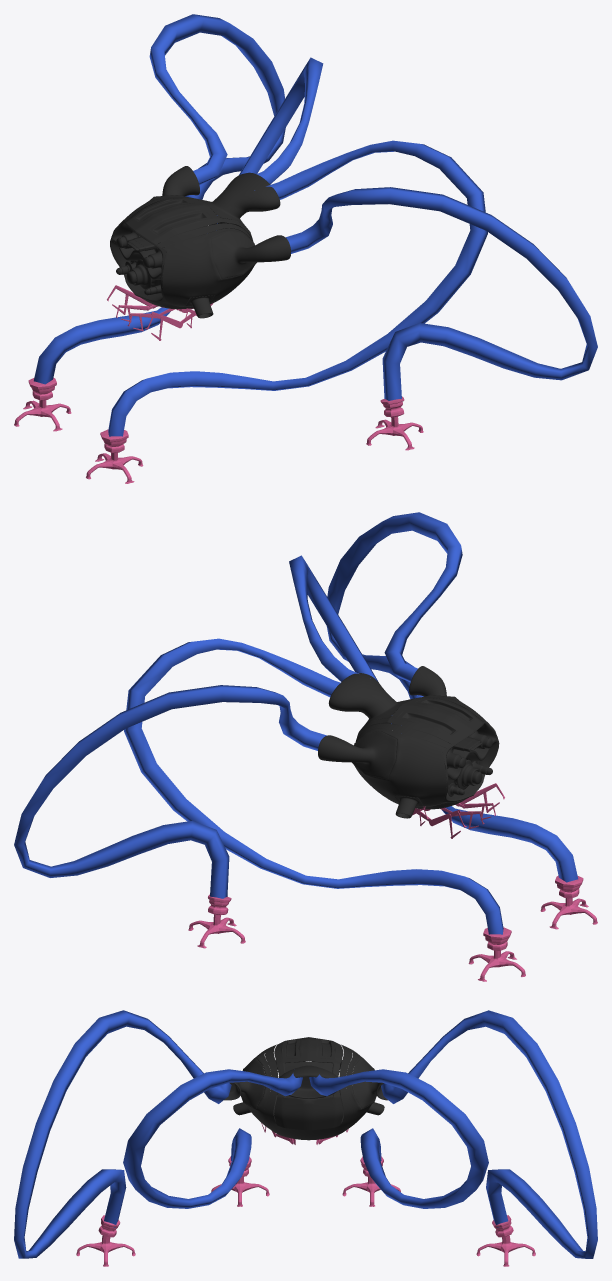
File: Vault_01_Sentinel.fbx
3 renders of one model, top to bottom at view 1: azimuth 30°, elevation 25°; view 2: azimuth 150°, elevation 25°; view 3: azimuth 270°, elevation 25°, orthographic. The views are drawn at different scales.
Visible parts, largest first — view 1: Sentinel_Tentacles_LOD0, Sentinel_Body_LOD0, Sentinel_Claw_LOD0; view 2: Sentinel_Tentacles_LOD0, Sentinel_Body_LOD0, Sentinel_Claw_LOD0; view 3: Sentinel_Tentacles_LOD0, Sentinel_Body_LOD0, Sentinel_Claw_LOD0.
Part boxes in pixels (x1=…): Sentinel_Tentacles_LOD0: x1=33, y1=14, x2=597, y2=436; Sentinel_Body_LOD0: x1=110, y1=166, x2=290, y2=318; Sentinel_Claw_LOD0: x1=14, y1=285, x2=423, y2=483; Sentinel_Tentacles_LOD0: x1=14, y1=512, x2=578, y2=934; Sentinel_Body_LOD0: x1=318, y1=666, x2=499, y2=818; Sentinel_Claw_LOD0: x1=188, y1=783, x2=597, y2=981; Sentinel_Tentacles_LOD0: x1=14, y1=1010, x2=597, y2=1258; Sentinel_Body_LOD0: x1=224, y1=1037, x2=387, y2=1140; Sentinel_Claw_LOD0: x1=76, y1=1123, x2=535, y2=1266.
Size of what is drawn, in the model's own units: 1507 by 1063 by 2116.
